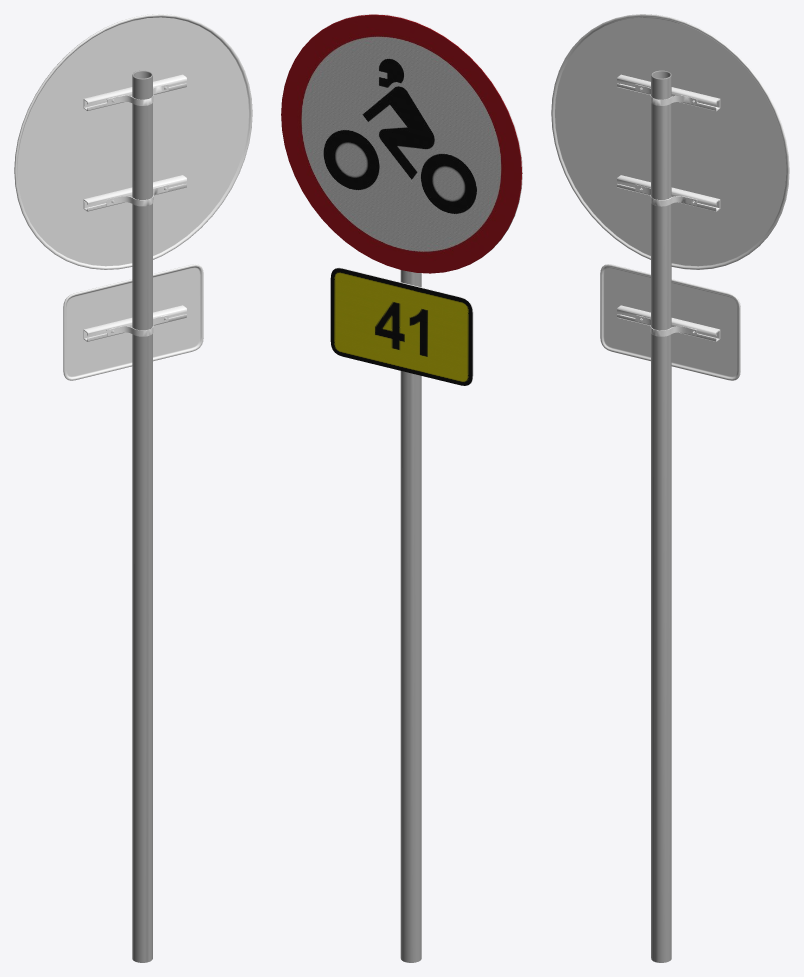
The model's file is o3_segnale_12.glb.
3 views of the same model, side by side, from view 1: azimuth 30°, elevation 25°; view 2: azimuth 150°, elevation 25°; view 3: azimuth 330°, elevation 25° (orthographic).
Parts seen in each view (by area): view 1: sb_modello; view 2: sb_modello; view 3: sb_modello.
Part boxes in pixels (x1,y1,x2,y2): sb_modello: [14, 14, 252, 962]; sb_modello: [281, 14, 522, 962]; sb_modello: [551, 14, 789, 962].
Size of the model in its own units: 0.7672 by 2.88 by 0.0839.
6 materials, 2 textured.
